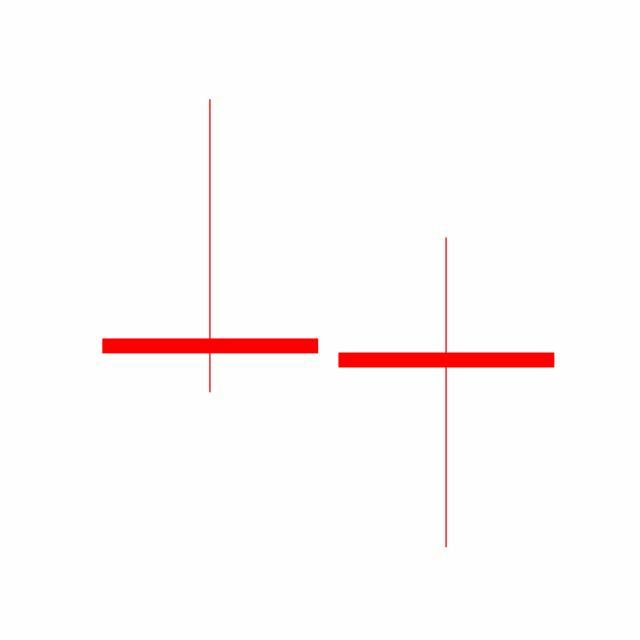Spinning Top: (328, 235, 566, 552)
